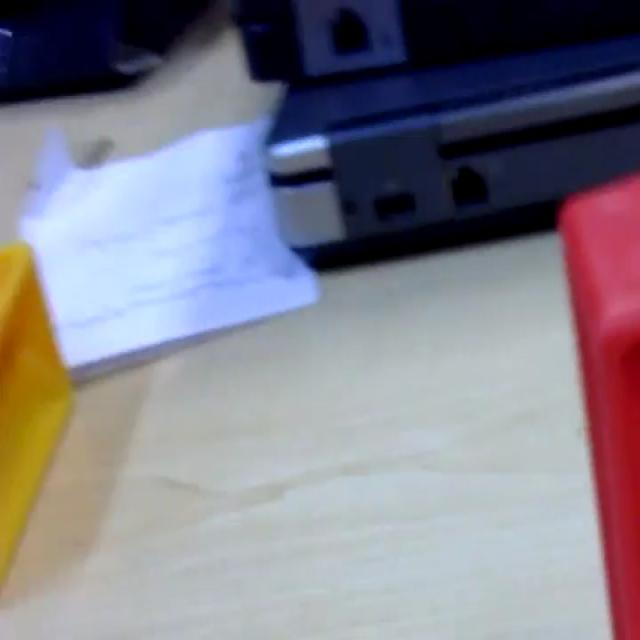red_block: (555, 169, 639, 636)
yellow_block: (0, 237, 74, 585)
